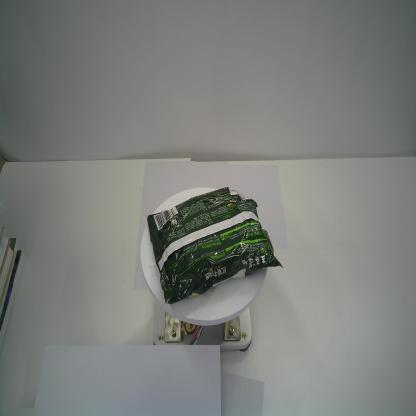Instant Noodles: (144, 184, 285, 305)
